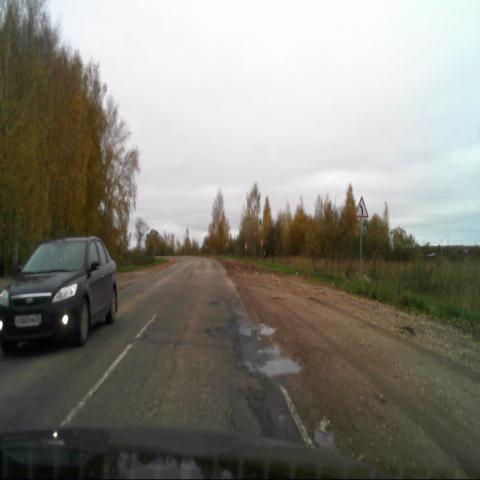1_11_1: (356, 196, 368, 217)
